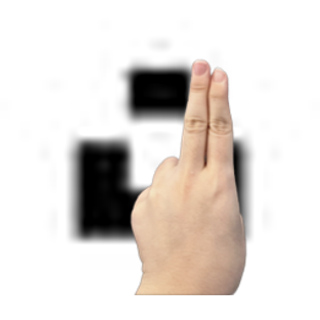DHAVE: (125, 55, 251, 291)
